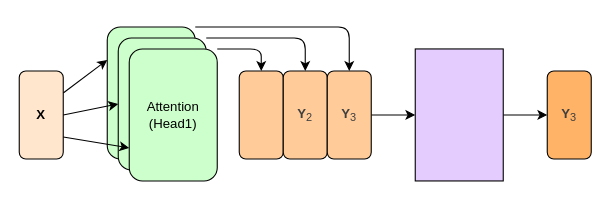
The diagram is 611 pixels wide and 200 high, and some of its shapes have lost their labels. Each missing label, with the centre of its shape:
"Linear Projection" goes at (458,114).
"Y 1" goes at (260,114).
